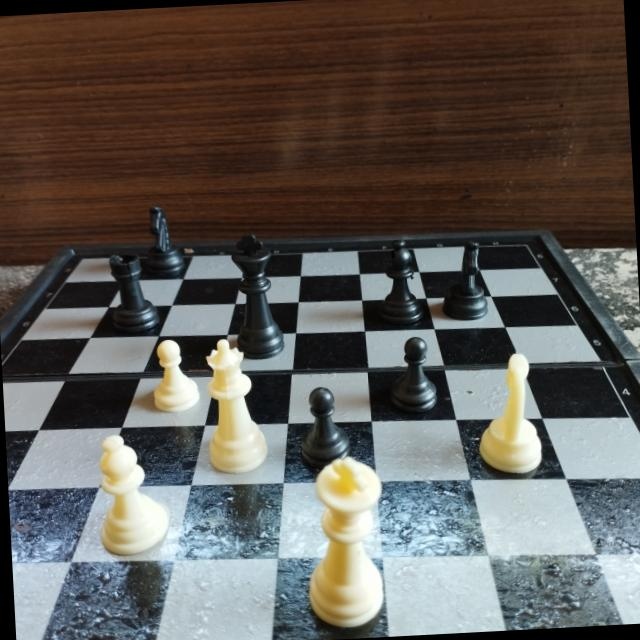Black Bishop: (376, 235, 426, 330)
Black King: (222, 230, 288, 360)
Black Knight: (436, 238, 493, 328), (138, 203, 184, 279)
Black Pawn: (292, 379, 352, 471), (386, 334, 440, 416)
Black Rook: (99, 250, 162, 340)
White Bishop: (92, 432, 175, 558)
White King: (302, 452, 392, 638)
White Knight: (474, 349, 548, 482)
White Pawn: (151, 334, 201, 418)
White Queen: (198, 331, 270, 482)
